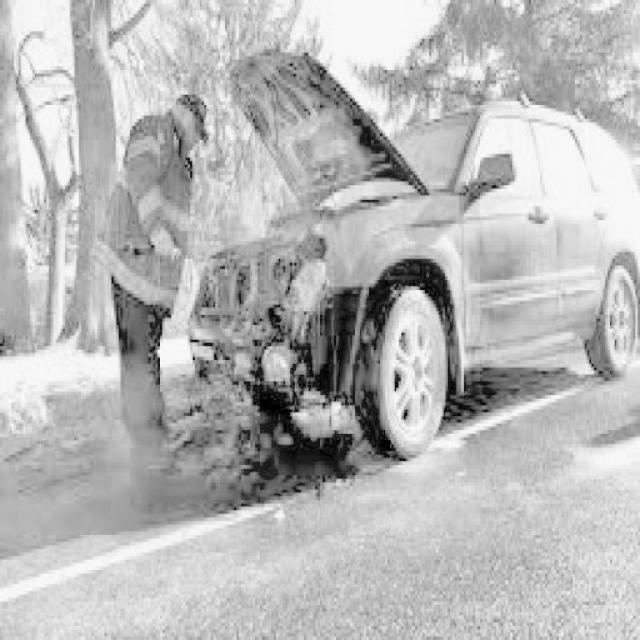car damage: (186, 231, 360, 402)
